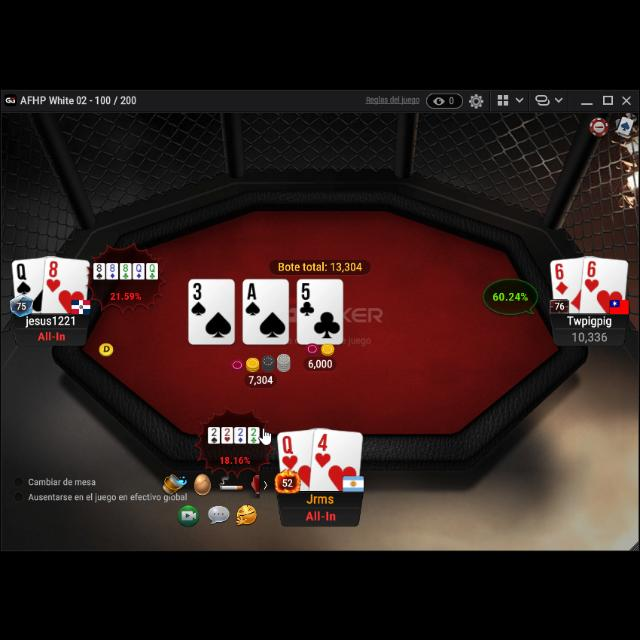3s: (191, 280, 209, 316)
4h: (314, 428, 332, 468)
4s: (243, 280, 263, 316)
5c: (298, 278, 316, 316)
6d: (554, 260, 570, 296)
6h: (583, 256, 601, 292)
8h: (46, 256, 62, 292)
As: (243, 280, 263, 316)
Qh: (280, 431, 300, 469)
Qs: (15, 258, 33, 296)
all_in_symbol: (304, 505, 338, 521), (38, 327, 66, 339)
bet_text: (306, 355, 334, 367), (248, 372, 274, 384)
dealer: (97, 338, 115, 354), (246, 354, 260, 370), (231, 356, 245, 368)
pot_text: (278, 258, 364, 270)
stack_text: (572, 328, 608, 342)
